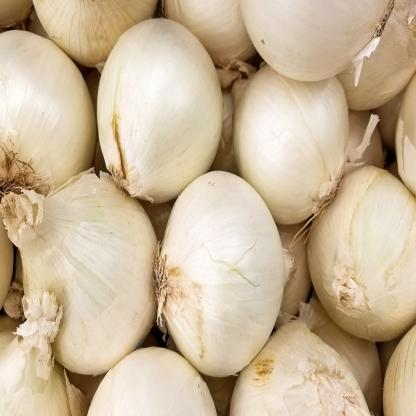onion: (92, 18, 226, 202), (232, 55, 360, 232)
